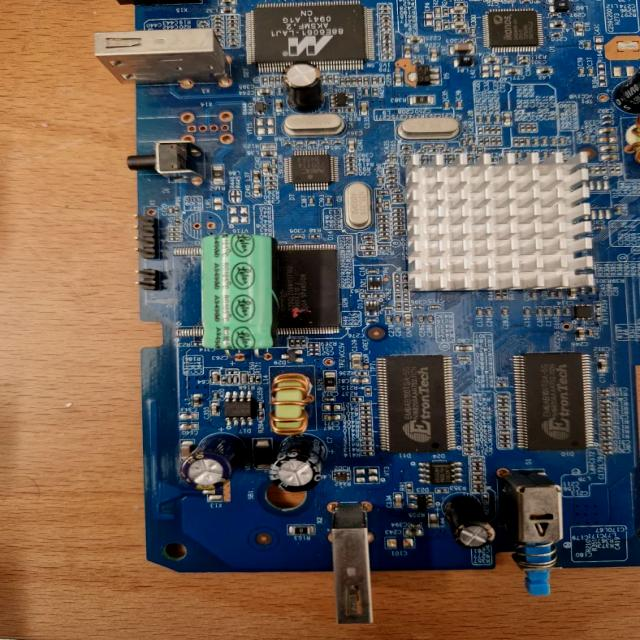A: (269, 375, 313, 435), (628, 104, 640, 166)
C: (180, 434, 246, 490), (270, 438, 326, 492), (444, 498, 494, 548), (281, 62, 323, 110), (611, 50, 640, 103)
